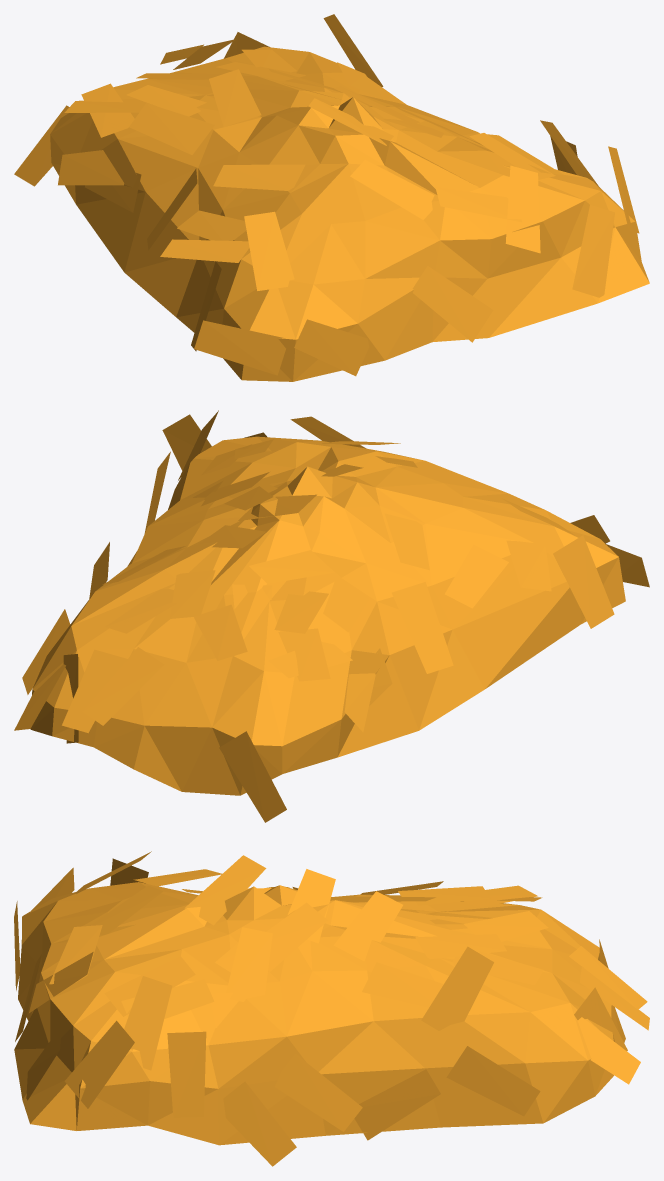
The model's file is SM_Hay_Wheelbarrow_Dry.fbx.
The picture shows the model from 3 angles, top to bottom: view 1: azimuth 30°, elevation 25°; view 2: azimuth 150°, elevation 25°; view 3: azimuth 270°, elevation 25°; orthographic projection.
Visible parts, largest first — view 1: hay-wheelbarrow-dry; view 2: hay-wheelbarrow-dry; view 3: hay-wheelbarrow-dry.
Part boxes in pixels (left/top/right/bottom): hay-wheelbarrow-dry: left=14, top=14, right=649, bottom=381; hay-wheelbarrow-dry: left=14, top=410, right=649, bottom=822; hay-wheelbarrow-dry: left=14, top=851, right=649, bottom=1166.
Bounding box in the file's own units: 0.6323 × 0.2733 × 0.7727.
